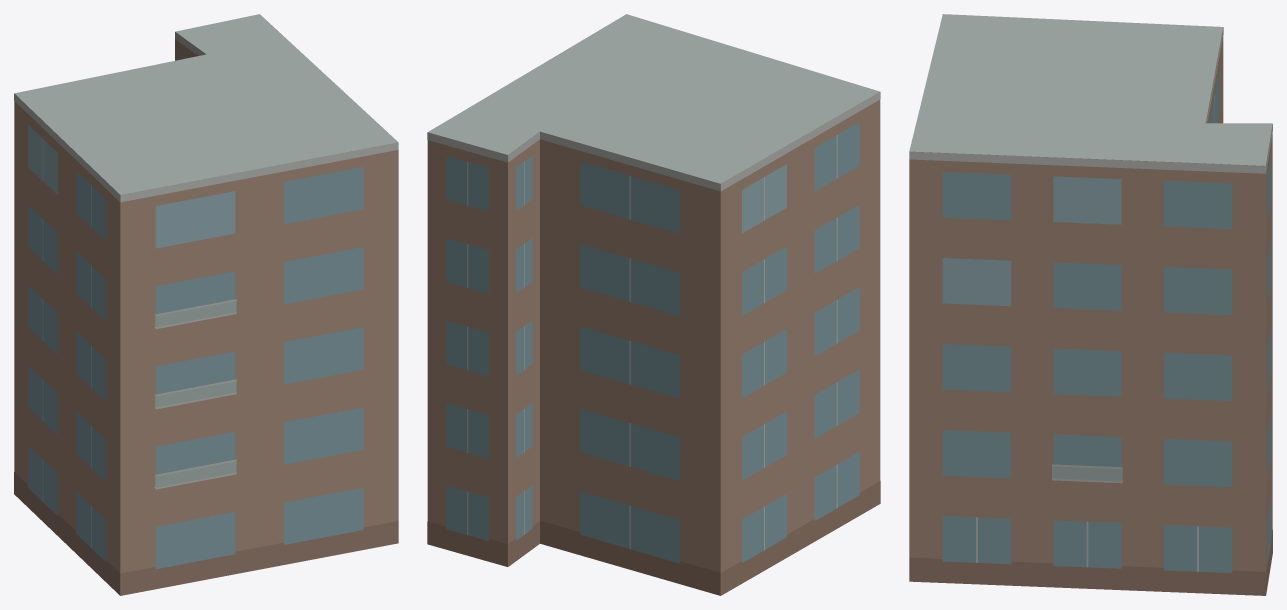
Rendered from survey-upis-32646713.glb.
3 renders of one model, left to right at view 1: azimuth 30°, elevation 25°; view 2: azimuth 150°, elevation 25°; view 3: azimuth 270°, elevation 25°, orthographic. The views are drawn at different scales.
Visible parts, largest first — view 1: survey-upis-32646713.tmp; view 2: survey-upis-32646713.tmp; view 3: survey-upis-32646713.tmp.
Boxes of the visible parts, x1=… form: survey-upis-32646713.tmp: x1=14, y1=14, x2=398, y2=595; survey-upis-32646713.tmp: x1=427, y1=14, x2=880, y2=595; survey-upis-32646713.tmp: x1=909, y1=14, x2=1272, y2=595.
Size of the model in its own units: 10.01 by 13.2 by 10.12.
